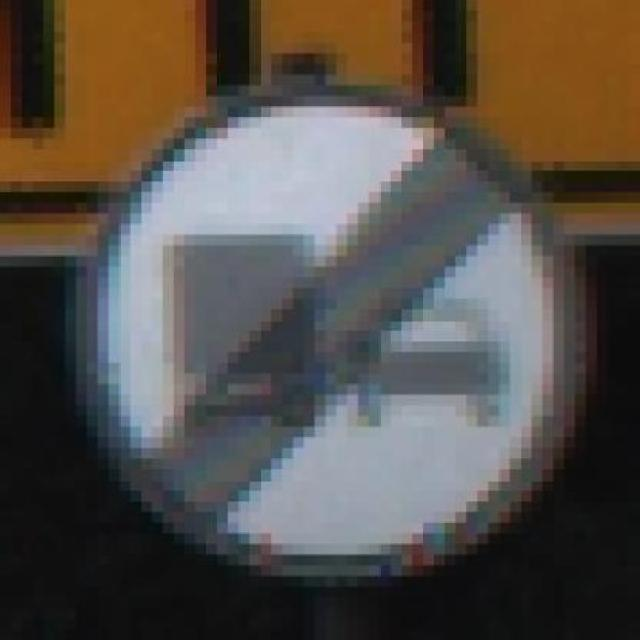Overtaking by trucks is prohibited: (43, 64, 629, 598)
